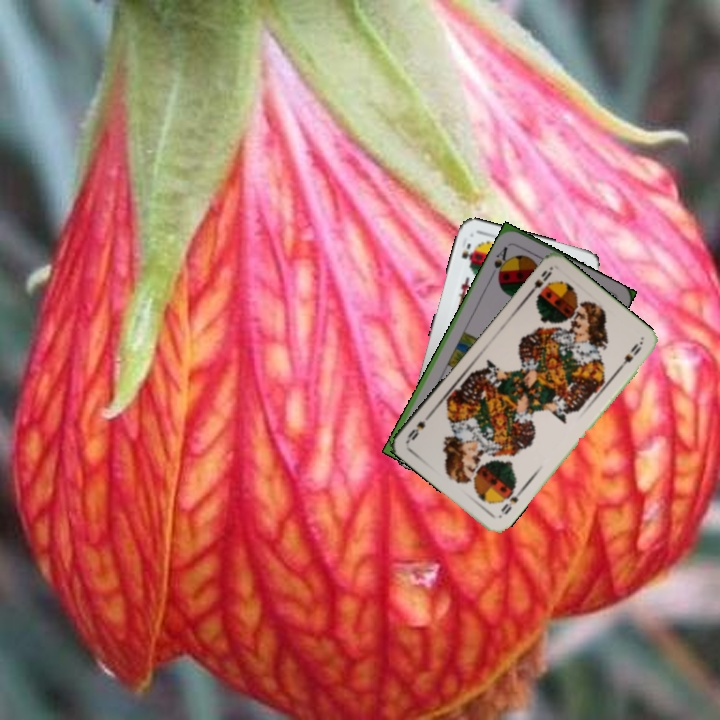SA: (490, 242, 512, 281)
SK: (457, 239, 474, 263)
SO: (524, 264, 554, 299), (497, 485, 525, 517)
